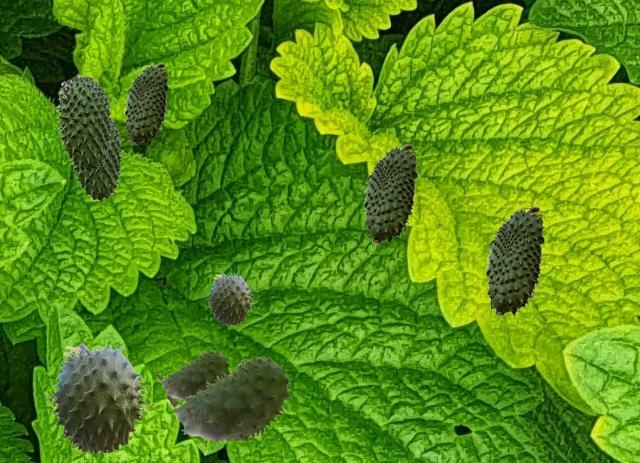guyabano: (44, 341, 156, 454), (166, 356, 291, 446), (485, 206, 544, 315), (56, 73, 112, 172), (363, 144, 417, 243), (70, 116, 122, 201), (156, 350, 230, 400), (124, 63, 168, 144), (205, 272, 257, 325)
